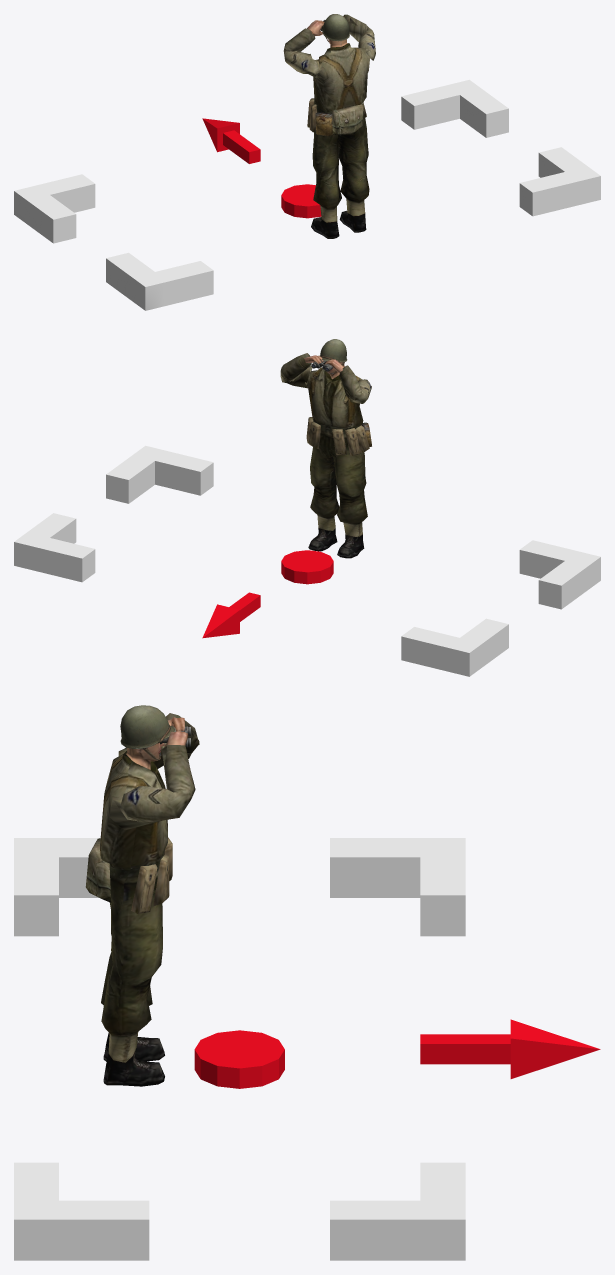
The picture shows the model from 3 angles, top to bottom: view 1: azimuth 30°, elevation 25°; view 2: azimuth 150°, elevation 25°; view 3: azimuth 270°, elevation 25°; orthographic projection. The views are drawn at different scales.
Parts seen in each view (by area): view 1: i_frame_Cube.001, Object.019_Object.006, arrow_Cube, pointer_Cylinder; view 2: i_frame_Cube.001, Object.019_Object.006, pointer_Cylinder, arrow_Cube; view 3: i_frame_Cube.001, Object.019_Object.006, arrow_Cube, pointer_Cylinder.
Boxes of the visible parts, bbox=[...] form: i_frame_Cube.001: bbox=[14, 79, 600, 310]; Object.019_Object.006: bbox=[283, 14, 375, 238]; arrow_Cube: bbox=[202, 118, 260, 163]; pointer_Cylinder: bbox=[281, 184, 321, 218]; i_frame_Cube.001: bbox=[14, 445, 600, 676]; Object.019_Object.006: bbox=[280, 339, 371, 558]; pointer_Cylinder: bbox=[281, 550, 333, 584]; arrow_Cube: bbox=[202, 592, 260, 638]; i_frame_Cube.001: bbox=[14, 838, 465, 1260]; Object.019_Object.006: bbox=[85, 705, 199, 1086]; arrow_Cube: bbox=[420, 1019, 600, 1078]; pointer_Cylinder: bbox=[194, 1030, 284, 1088].
Size of the model in its own units: 4 by 1.78 by 2.6.
Materials: 2 (2 with a texture image).
